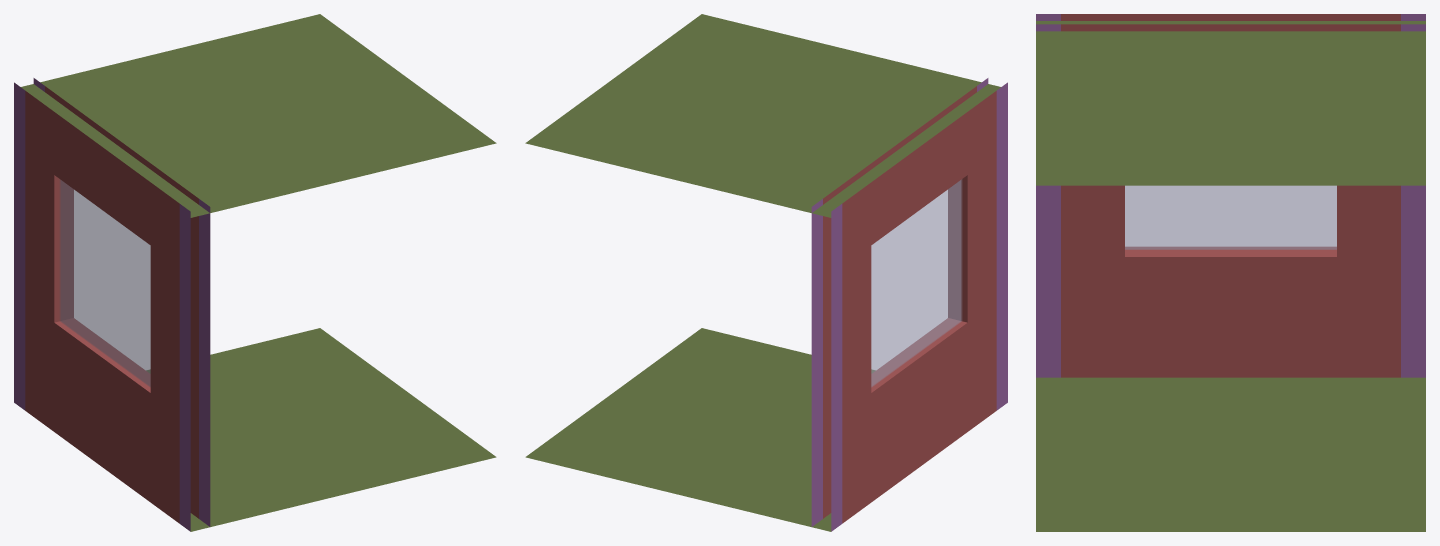
File: window 1.fbx
3 views of the same model, side by side, from view 1: azimuth 30°, elevation 25°; view 2: azimuth 150°, elevation 25°; view 3: azimuth 270°, elevation 25° (orthographic). The views are drawn at different scales.
Visible parts, largest first — view 1: polySurface8, building_windowframe1, polySurface7, glass_01, building_pillar10, building_pillar9; view 2: polySurface8, building_windowframe1, polySurface7, glass_01, building_pillar9, building_pillar10; view 3: polySurface8, polySurface7, building_windowframe1, glass_01, building_pillar9, building_pillar10.
Part boxes in pixels (x1,y1,x2,y2): polySurface8: [21, 14, 496, 217]; building_windowframe1: [25, 86, 198, 523]; polySurface7: [146, 328, 496, 531]; glass_01: [60, 179, 150, 386]; building_pillar10: [179, 199, 210, 531]; building_pillar9: [14, 78, 44, 410]; polySurface8: [525, 14, 1000, 217]; building_windowframe1: [823, 86, 996, 523]; polySurface7: [525, 328, 875, 531]; glass_01: [871, 179, 961, 386]; building_pillar9: [811, 199, 842, 531]; building_pillar10: [977, 78, 1007, 410]; polySurface8: [1036, 21, 1425, 185]; polySurface7: [1036, 377, 1425, 531]; building_windowframe1: [1061, 14, 1400, 377]; glass_01: [1125, 185, 1336, 249]; building_pillar9: [1401, 14, 1425, 377]; building_pillar10: [1036, 14, 1060, 377].
Size of the model in its own units: 1 by 1 by 1.
